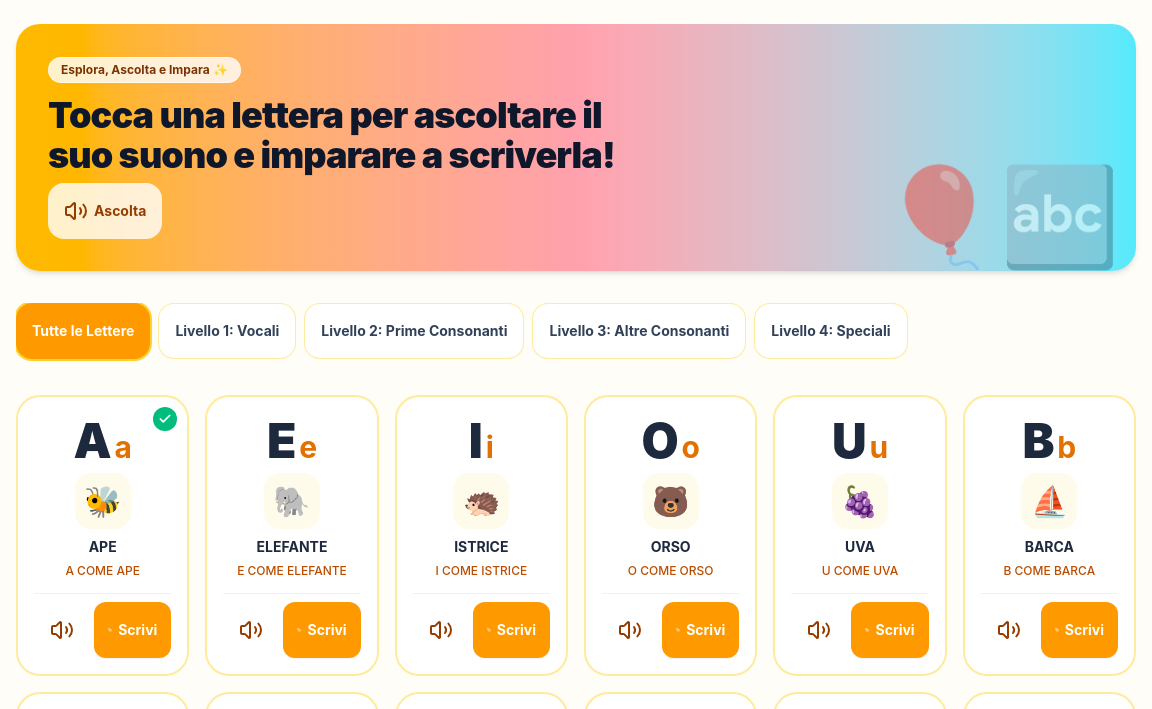
LetterExplorer › filters by level
Click the button "Livello 1: Vocali" at (227, 331), box [158,303,296,359]
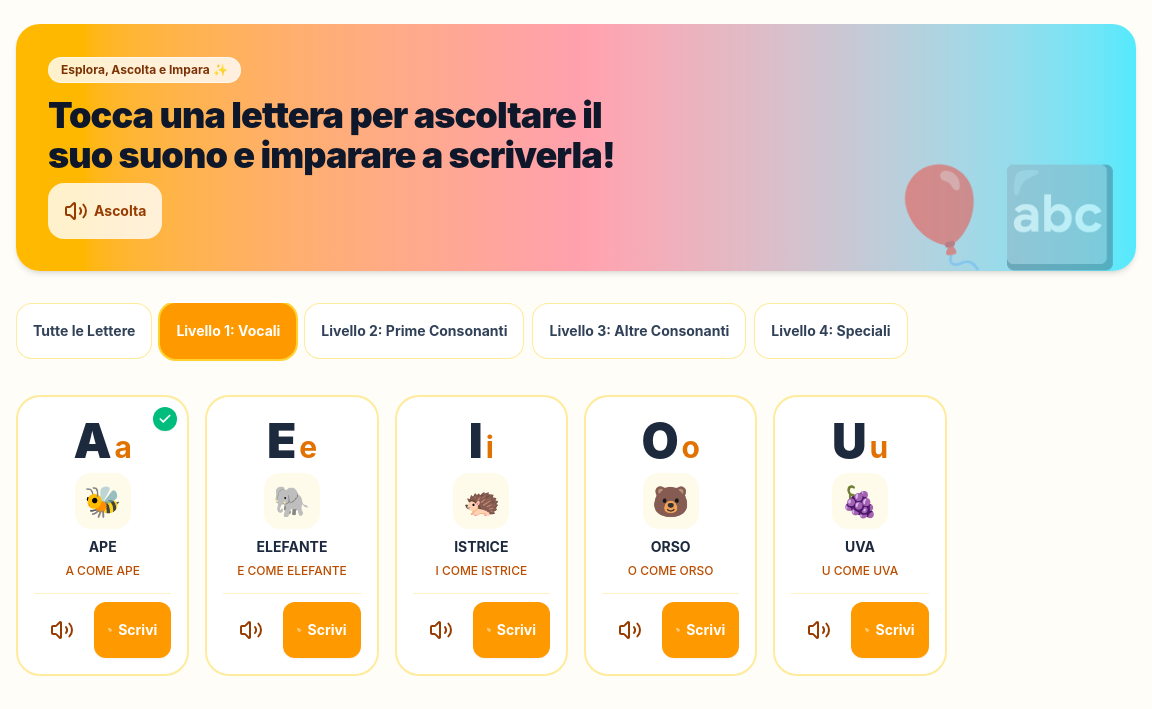
Expected: the number of buttons "Scrivi" is 5, [94,602,171,658]; [283,602,361,658]; [473,602,550,658]; [662,602,739,658]; [851,602,929,658]
Click the button "Tutte le Lettere" at (84, 331), box [16,303,152,359]
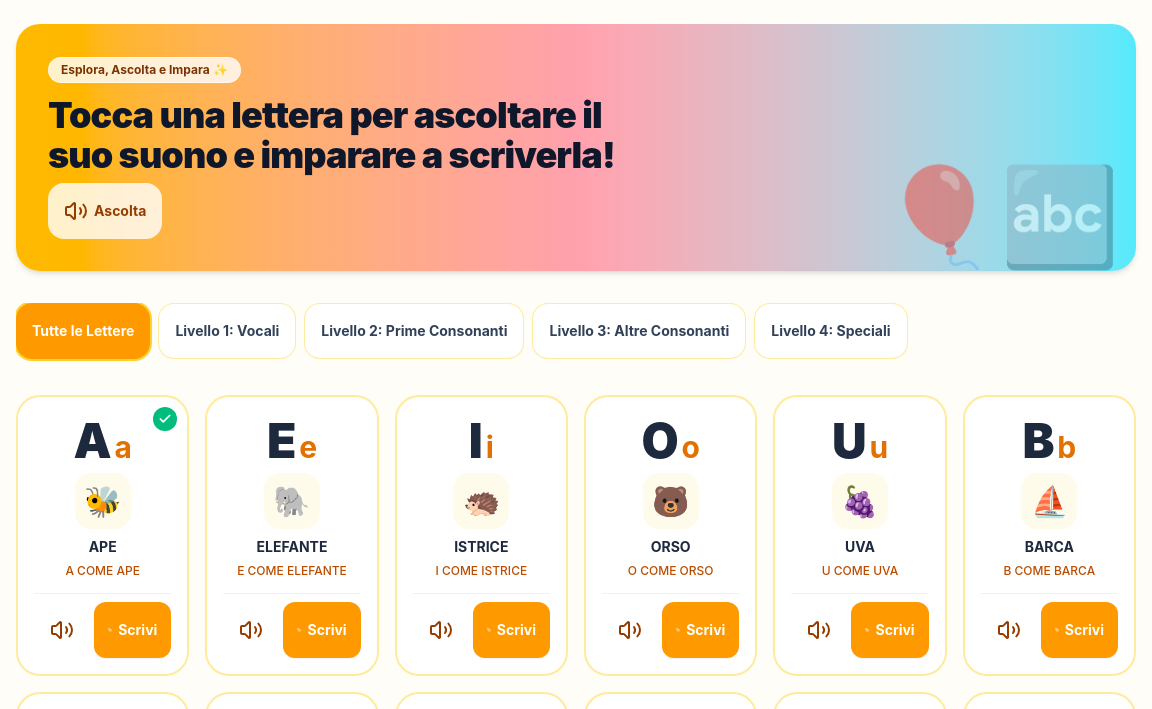
Expected: the number of buttons "Scrivi" is 26
